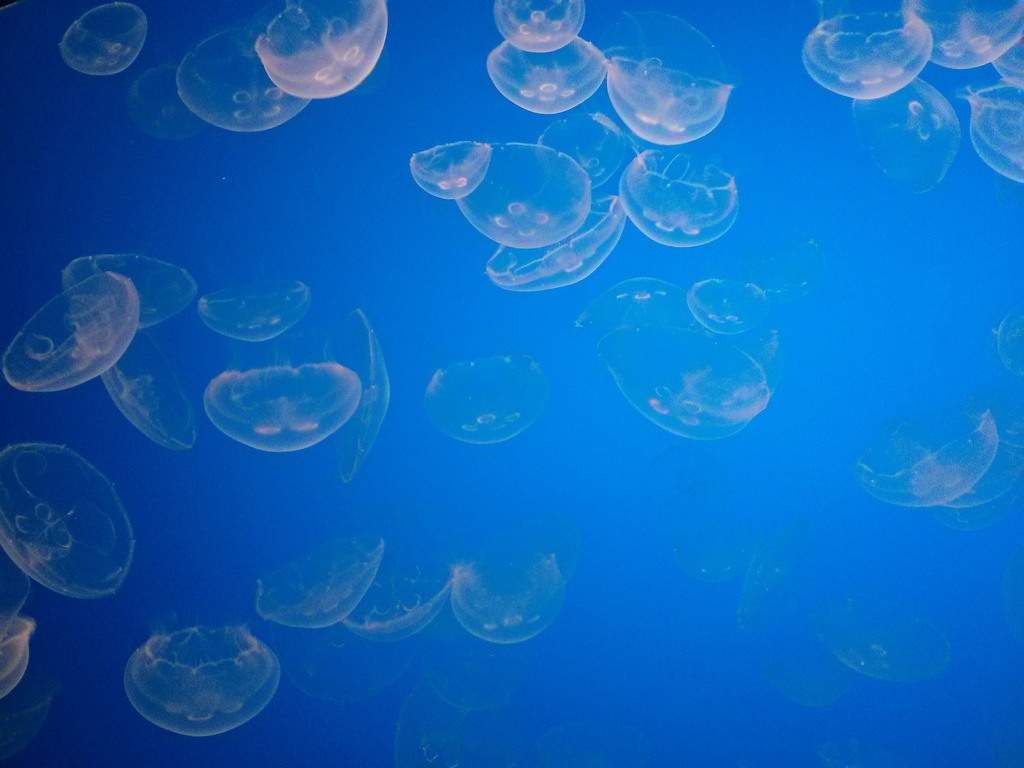Jellyfish: (0, 0, 1023, 740), (115, 613, 291, 741), (249, 0, 387, 97)
